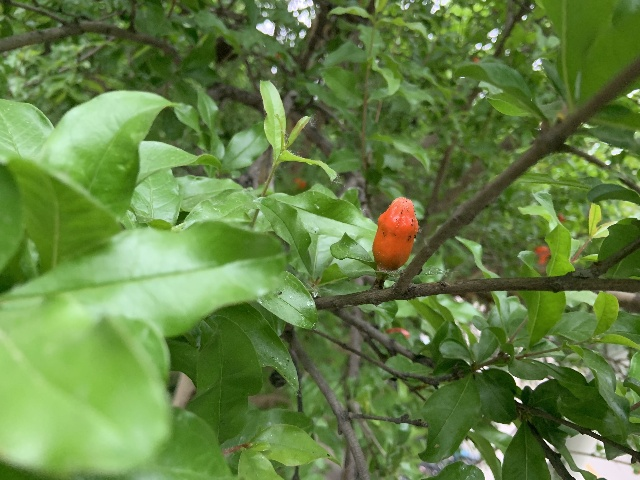bud: (372, 196, 418, 272), (384, 327, 410, 339)
flower: (533, 246, 550, 264)
